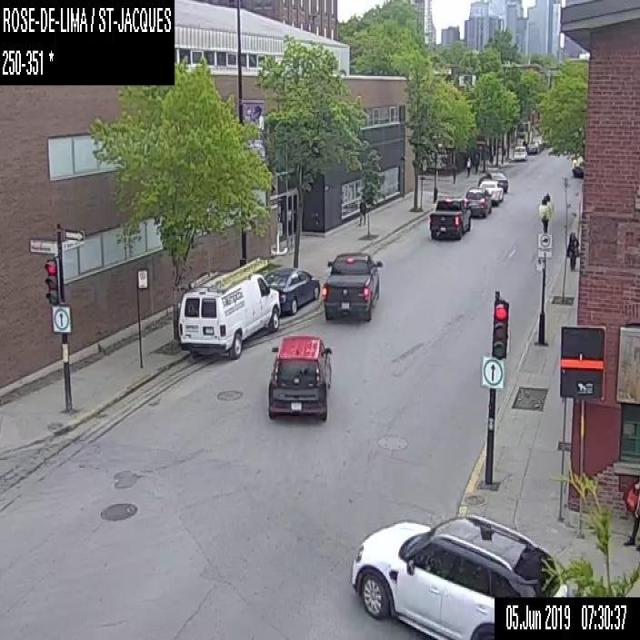pedestrian: (621, 476, 639, 551), (566, 231, 578, 268), (358, 197, 366, 227), (465, 154, 471, 177), (473, 152, 479, 171)
vehicle: (348, 511, 568, 638), (176, 258, 282, 356), (266, 329, 332, 422), (321, 250, 384, 320), (262, 264, 321, 314), (427, 198, 470, 239), (464, 188, 491, 216), (478, 170, 510, 192), (478, 178, 504, 202), (513, 146, 528, 160)
